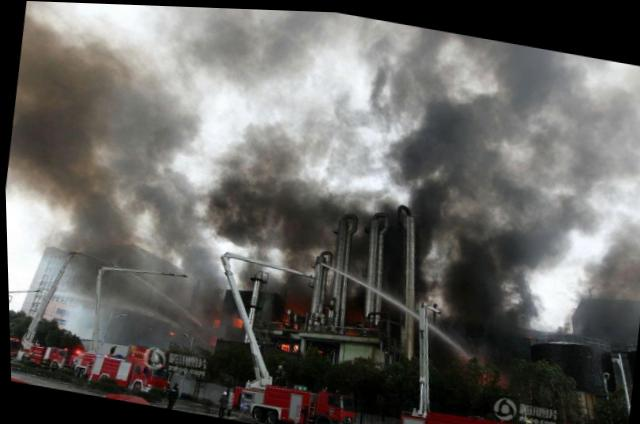fire: (229, 313, 239, 323), (278, 339, 286, 345)
